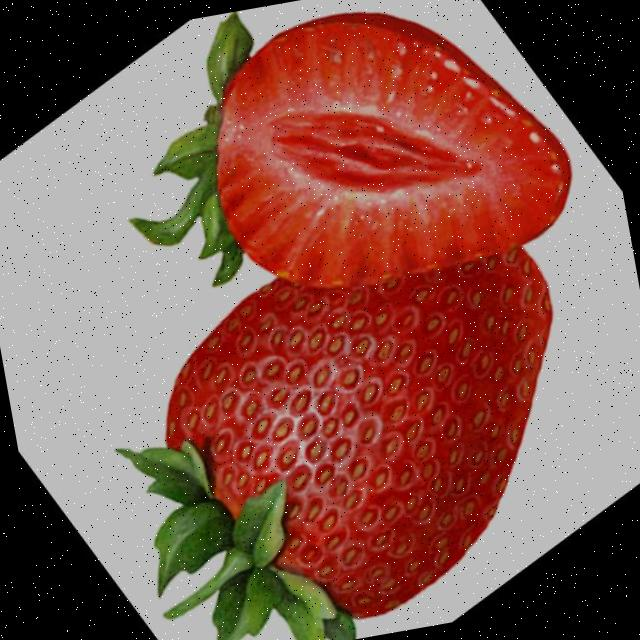strawberry: (117, 247, 550, 640), (130, 10, 570, 285)
